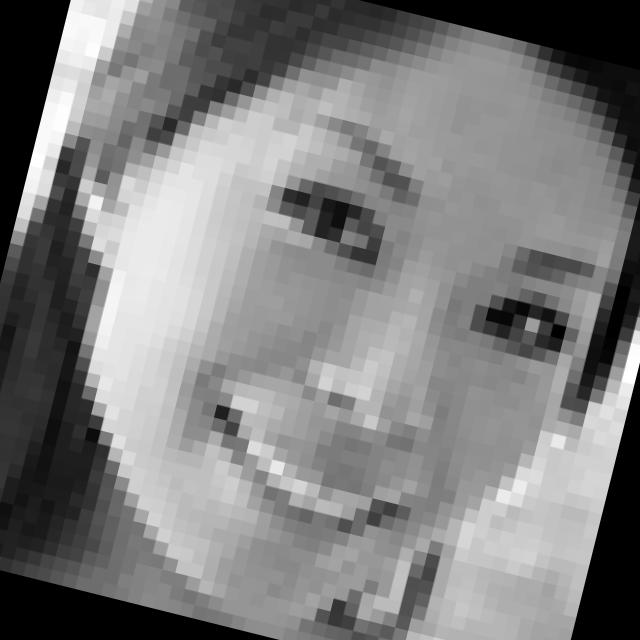happy: (161, 87, 630, 612)
